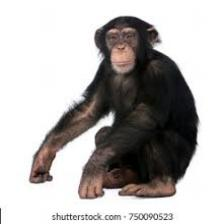monkey: (20, 11, 210, 206)
